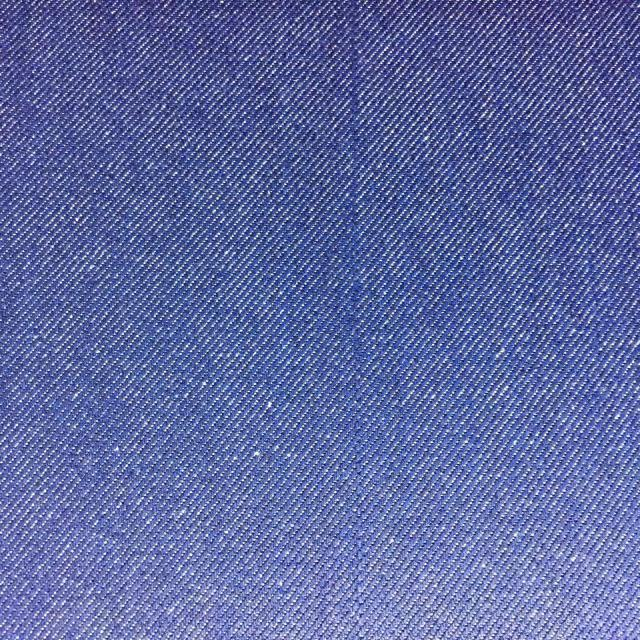Line: (344, 0, 362, 640)
